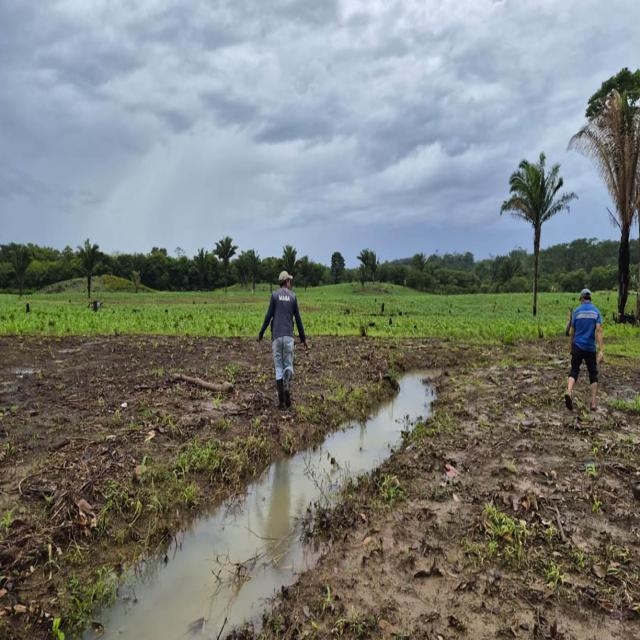suelo_humedo: (53, 298, 577, 596)
